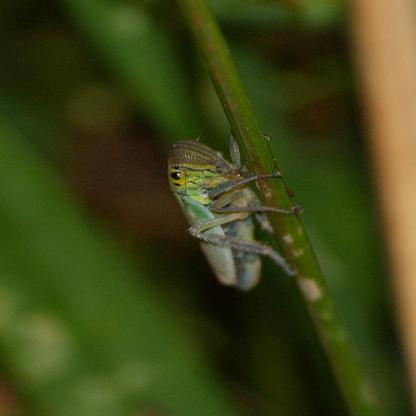Green-Leafhopper: (158, 132, 302, 296)
